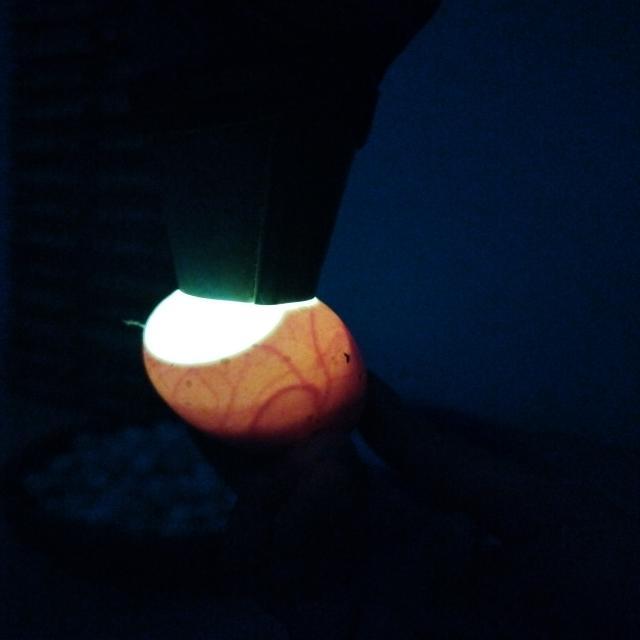Embriao: (190, 334, 376, 465)
